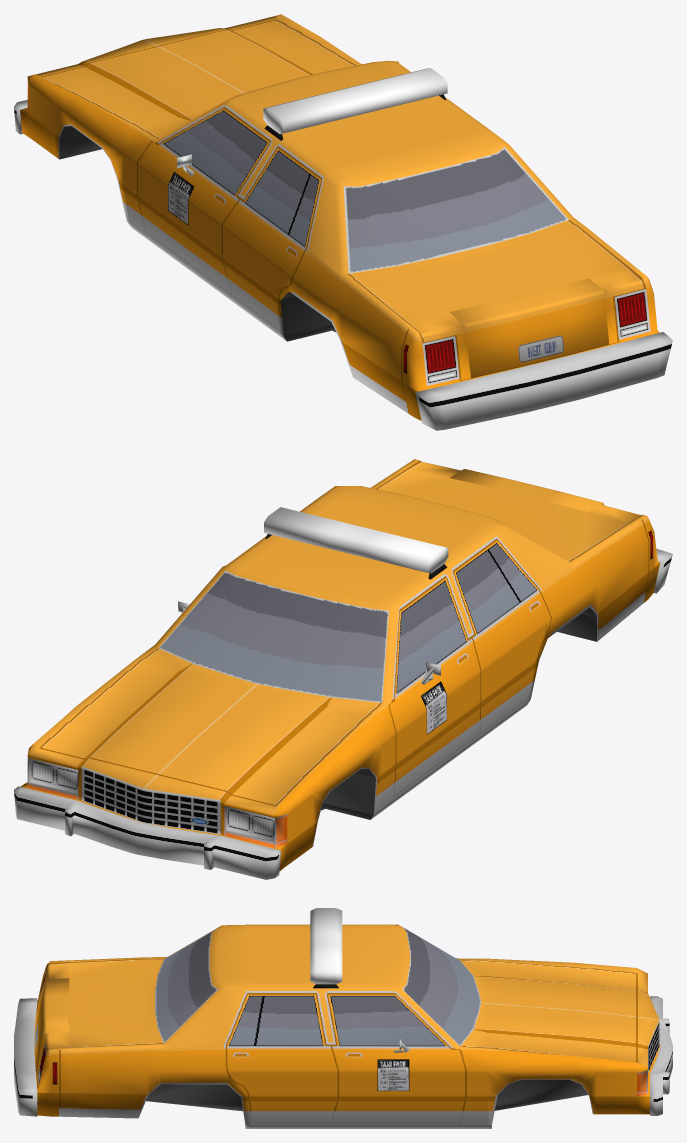
The model's file is 86crownvictorialtdpolice.fbx.
The picture shows the model from 3 angles, top to bottom: view 1: azimuth 30°, elevation 25°; view 2: azimuth 150°, elevation 25°; view 3: azimuth 270°, elevation 25°; orthographic projection. The views are drawn at different scales.
Visible parts, largest first — view 1: 86crownvictoria; view 2: 86crownvictoria; view 3: 86crownvictoria.
Part boxes in pixels (x1,y1,x2,y2): 86crownvictoria: (14, 14, 672, 430); 86crownvictoria: (14, 459, 672, 879); 86crownvictoria: (14, 908, 672, 1128).
Bounding box in the file's own units: 1.98 × 1.31 × 5.47.
